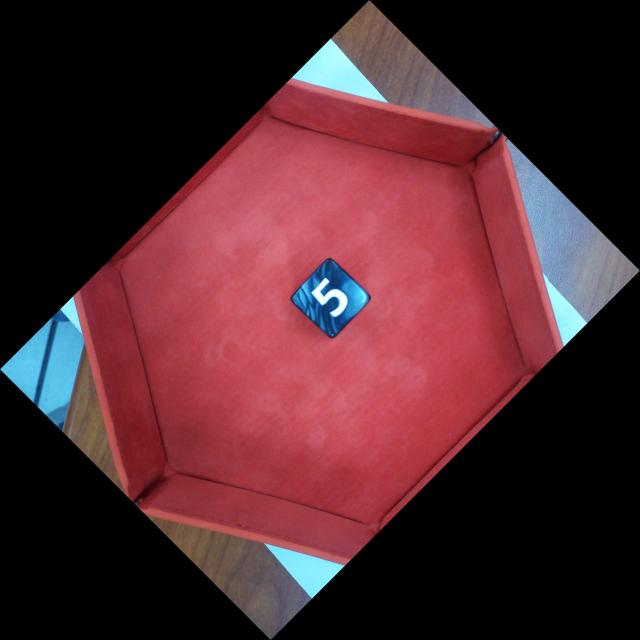dice: (287, 256, 374, 342)
